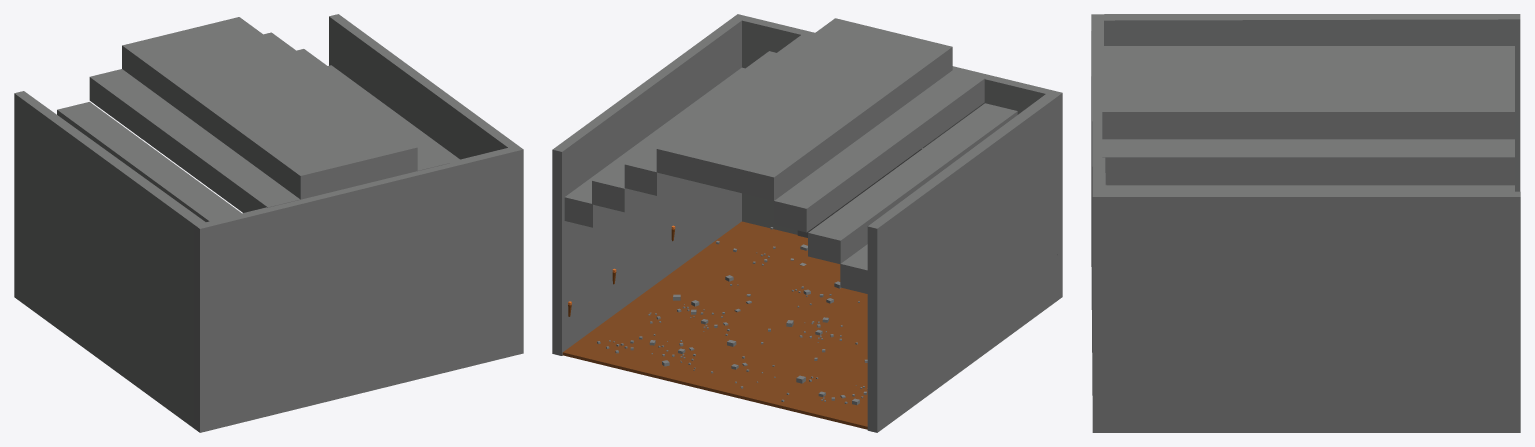
Rendered from try_3.fbx.
3 renders of one model, left to right at view 1: azimuth 30°, elevation 25°; view 2: azimuth 150°, elevation 25°; view 3: azimuth 270°, elevation 25°, orthographic. The views are drawn at different scales.
Visible parts, largest first — view 1: Cube.087; view 2: Cube.087; view 3: Cube.087.
Boxes of the visible parts, bbox=[...] form: Cube.087: bbox=[14, 14, 523, 432]; Cube.087: bbox=[552, 14, 1062, 432]; Cube.087: bbox=[1091, 14, 1520, 432].
Size of the model in its own units: 12791 by 8578 by 12673.
